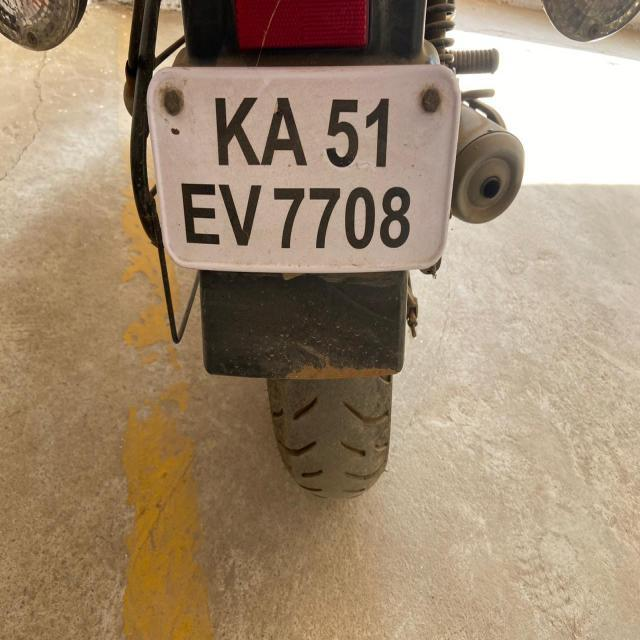0: (342, 175, 377, 254)
1: (362, 84, 398, 175)
5: (322, 86, 364, 170)
7: (268, 175, 310, 251), (307, 178, 341, 259)
8: (375, 182, 415, 258)
A: (261, 80, 312, 169)
E: (179, 178, 223, 253)
K: (206, 84, 263, 170)
V: (216, 176, 264, 253)
